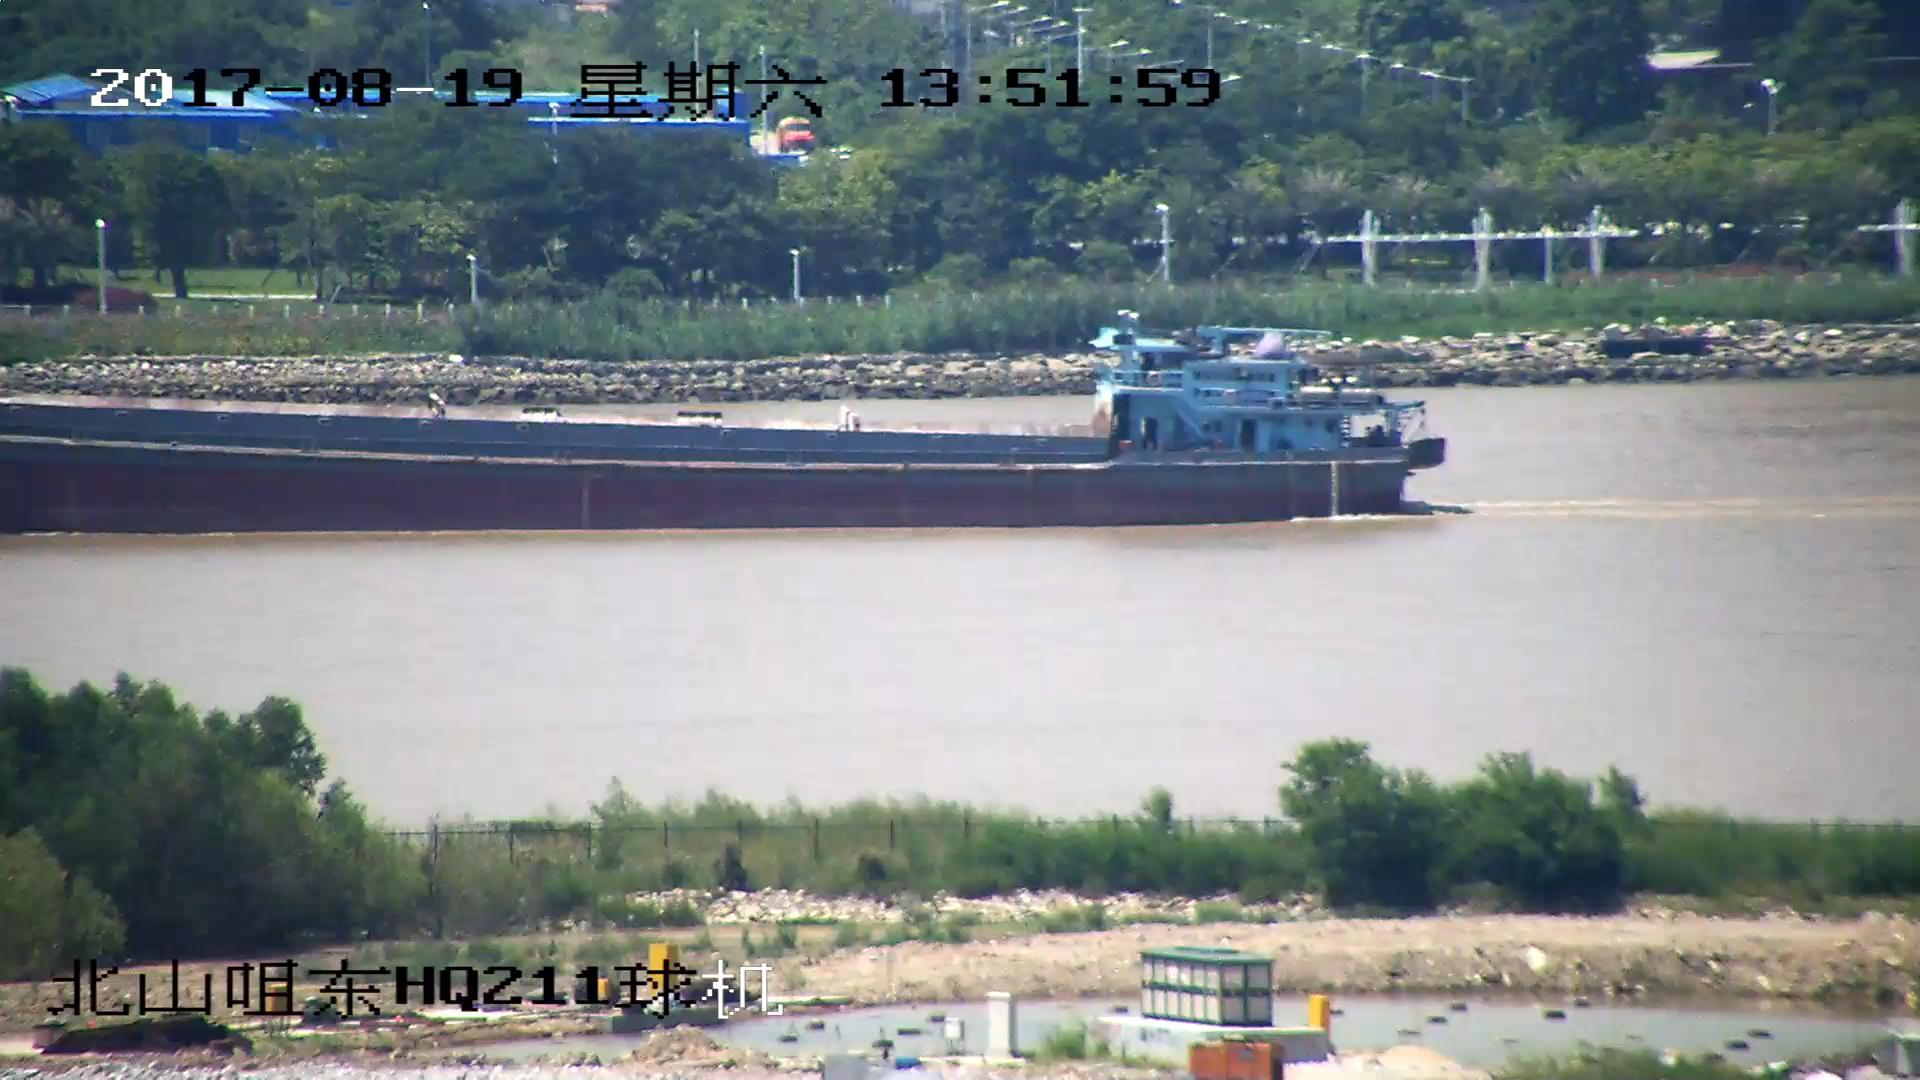Ship: (3, 309, 1441, 539)
